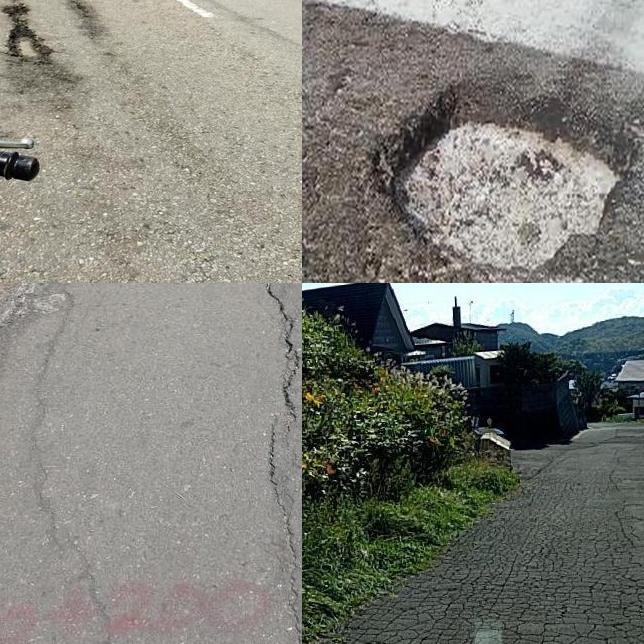Lubang: (376, 89, 644, 266), (2, 2, 47, 61)
Memanjang: (249, 283, 302, 644)
Retak Buaya: (313, 488, 644, 644)
